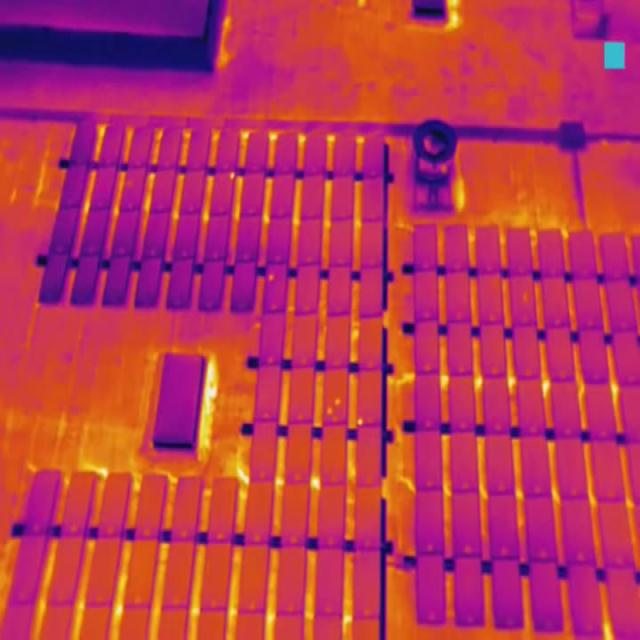Orange-Spots: (335, 398, 341, 406), (269, 274, 274, 282), (357, 418, 363, 424), (327, 407, 332, 414), (230, 172, 234, 180)
